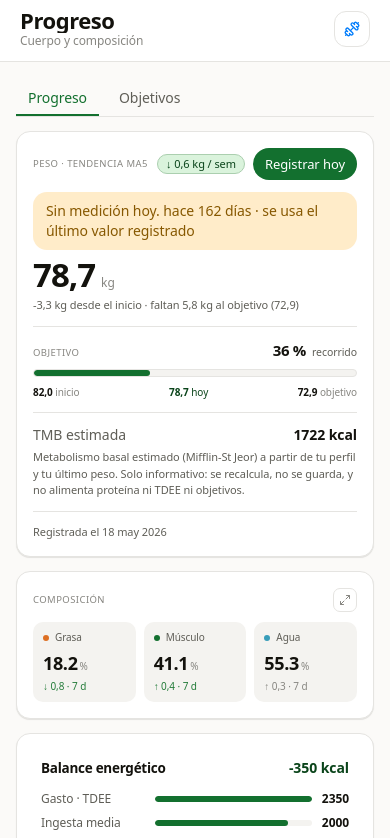
Scenario: ProgresoPage › opens the same dialog from the hero button (the mobile affordance)
The image size is (390, 838).
Step 1. Click the button "Registrar hoy" → x=305, y=164, box [253,148,357,180]
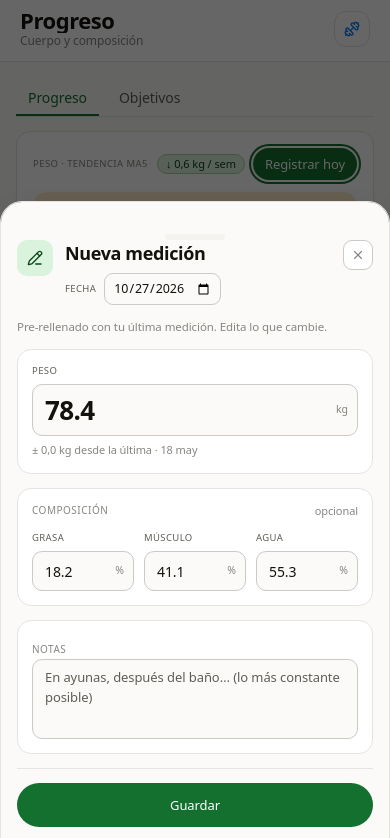
Expected: the dialog shows "Nueva medición", [65,241,205,265]
